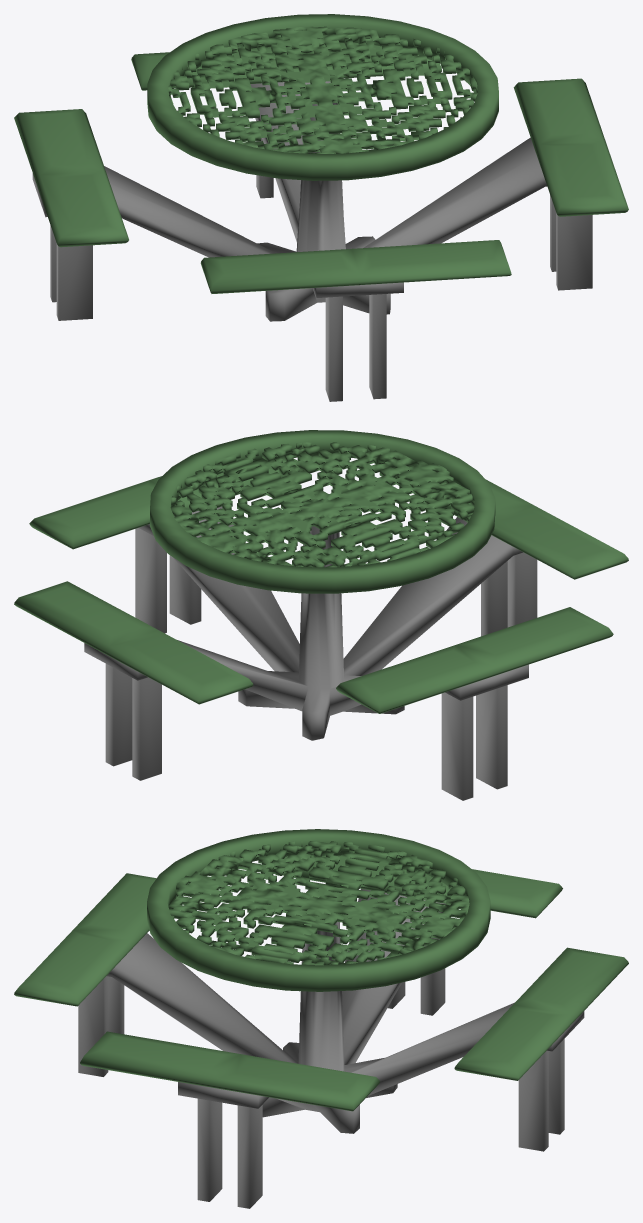
The model's file is klupa 1.fbx.
The picture shows the model from 3 angles, top to bottom: view 1: azimuth 30°, elevation 25°; view 2: azimuth 150°, elevation 25°; view 3: azimuth 270°, elevation 25°; orthographic projection. The views are drawn at different scales.
Visible parts, largest first — view 1: Plane.003; view 2: Plane.003; view 3: Plane.003.
Part boxes in pixels (x1,y1,x2,y2): Plane.003: (14, 14, 628, 401); Plane.003: (14, 430, 628, 800); Plane.003: (14, 829, 628, 1208).
Bounding box in the file's own units: 179 × 62.57 × 174.
